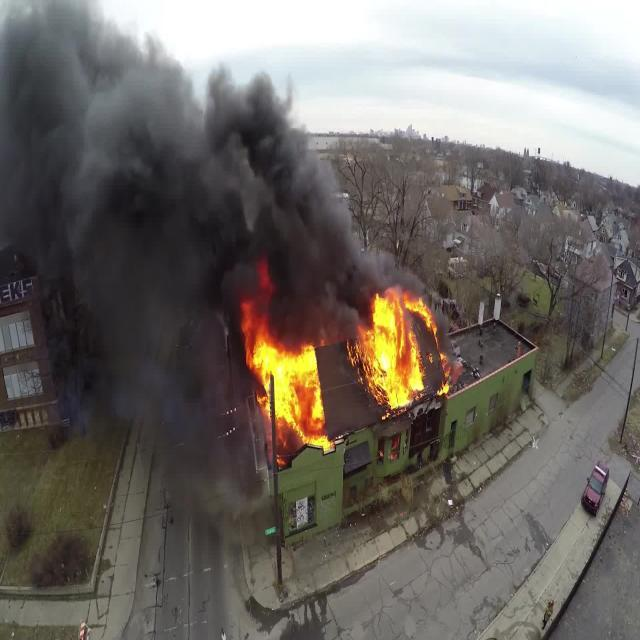Fire: (240, 264, 462, 460)
Smoke: (2, 6, 234, 490), (236, 51, 324, 267)
